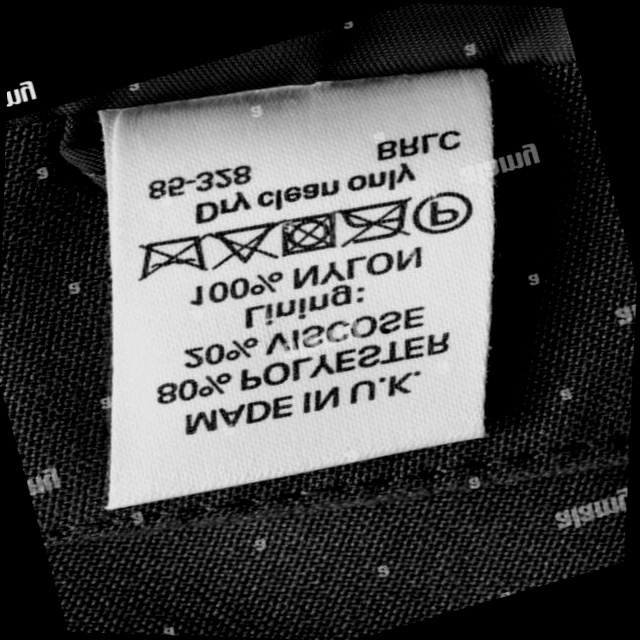DN_bleach: (215, 219, 278, 273)
DN_iron: (340, 195, 412, 251)
DN_tumble_dry: (281, 207, 339, 261)
DN_wash: (135, 229, 214, 286)
dry_clean_any_solvent_except_trichloroethylene: (411, 188, 477, 243)
